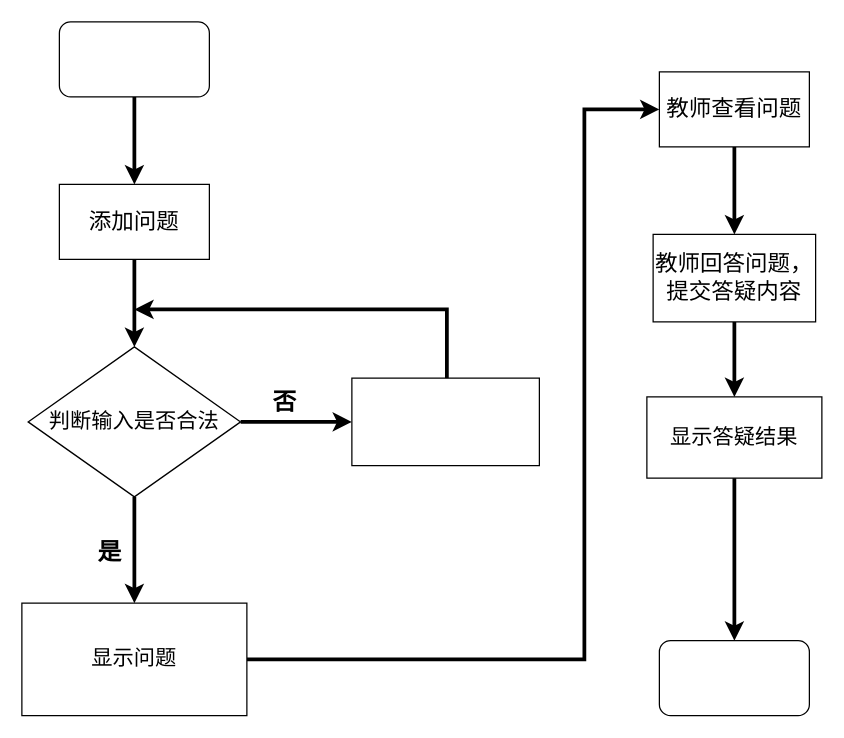
The diagram is 844 pixels wide and 738 high, and some of its shapes have lost their labels. Here are the shapes that lost their labels. From the top down, the box of each, then its label:
(58, 21, 209, 97): 开始
(351, 377, 539, 466): 修改不合法内容
(658, 639, 809, 716): 结束
